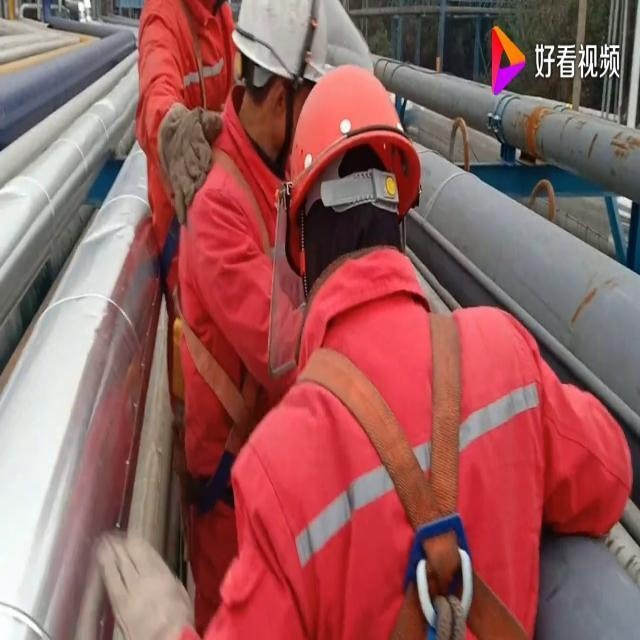Arnes_seguridad: (283, 289, 541, 639), (171, 130, 297, 511)
